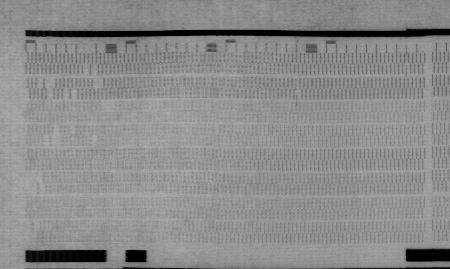Broken hole: (25, 168, 48, 194), (36, 76, 57, 102), (25, 216, 42, 243), (42, 135, 66, 150), (80, 64, 100, 77), (61, 88, 81, 101), (102, 100, 119, 114), (91, 76, 105, 90), (89, 135, 102, 149), (67, 123, 79, 136), (51, 123, 61, 137)
Oblique printing: (292, 88, 305, 106), (401, 62, 413, 79)
